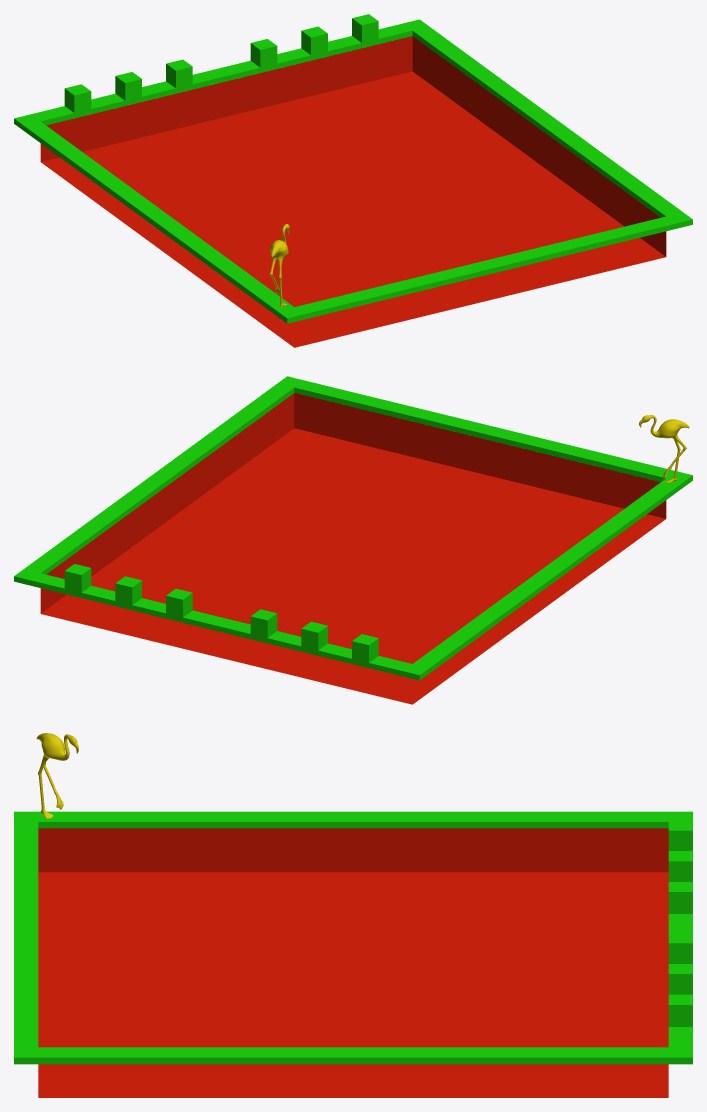
The model's file is pool.gltf.
The picture shows the model from 3 angles, top to bottom: view 1: azimuth 30°, elevation 25°; view 2: azimuth 150°, elevation 25°; view 3: azimuth 270°, elevation 25°; orthographic projection. The views are drawn at different scales.
Visible parts, largest first — view 1: inside, rim, flamingo; view 2: inside, rim, flamingo; view 3: inside, rim, flamingo.
Boxes of the visible parts, x1,y1,x2,y2 form: inside: [40, 36, 666, 347]; rim: [14, 14, 692, 323]; flamingo: [269, 224, 289, 307]; inside: [40, 393, 666, 704]; rim: [14, 376, 692, 680]; flamingo: [639, 415, 689, 483]; inside: [38, 828, 668, 1097]; rim: [14, 811, 692, 1064]; flamingo: [36, 733, 78, 818].
Size of what is drawn, in the model's own units: 24.37 by 6.33 by 28.
